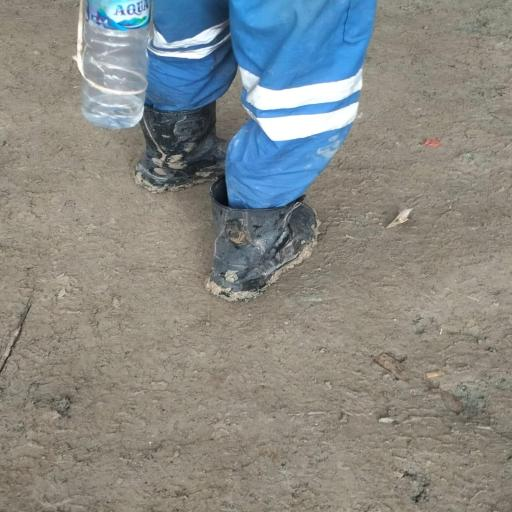safety_shoe: (212, 193, 320, 295), (142, 112, 244, 188)
